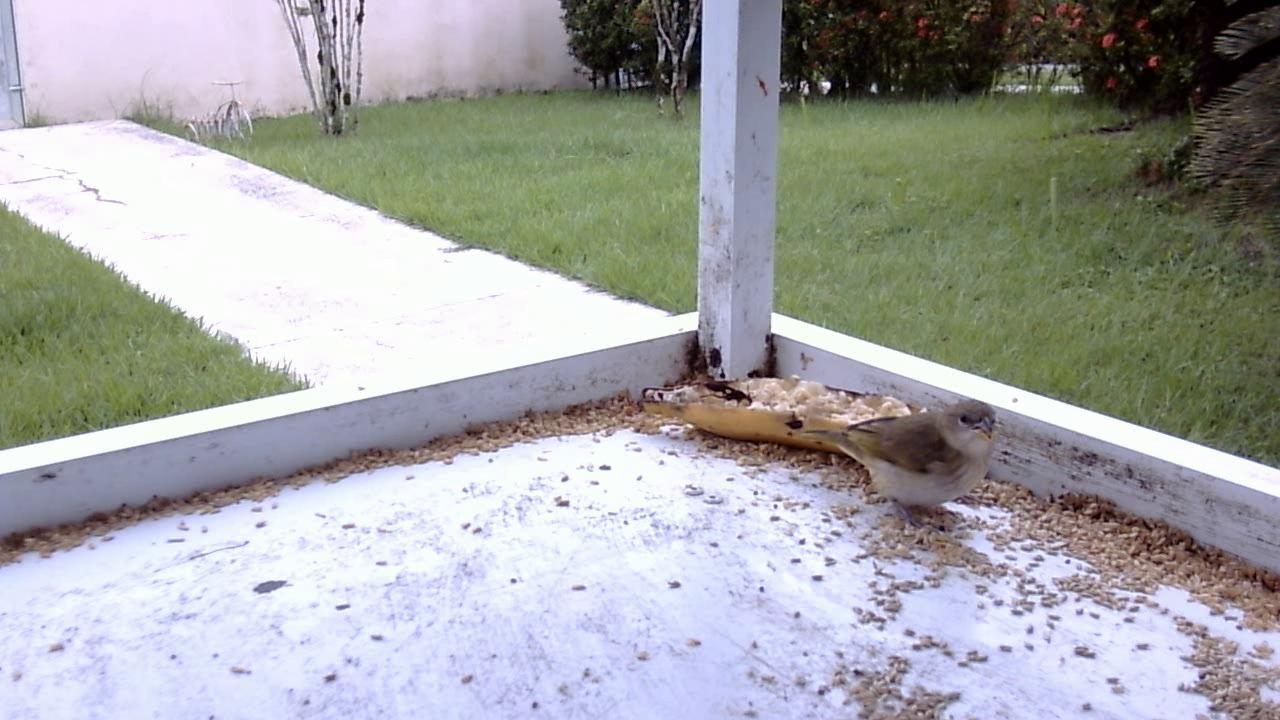canario_do_amazonas: (773, 390, 1005, 537)
